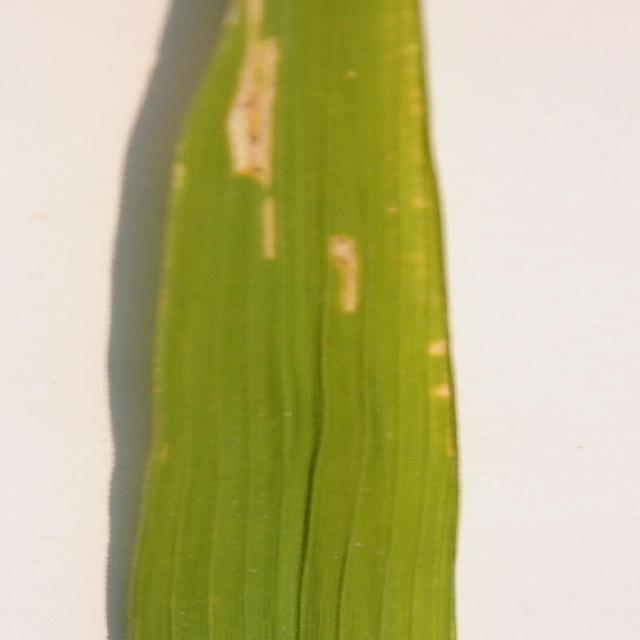leaf blight: (207, 1, 292, 264), (314, 216, 381, 317)
